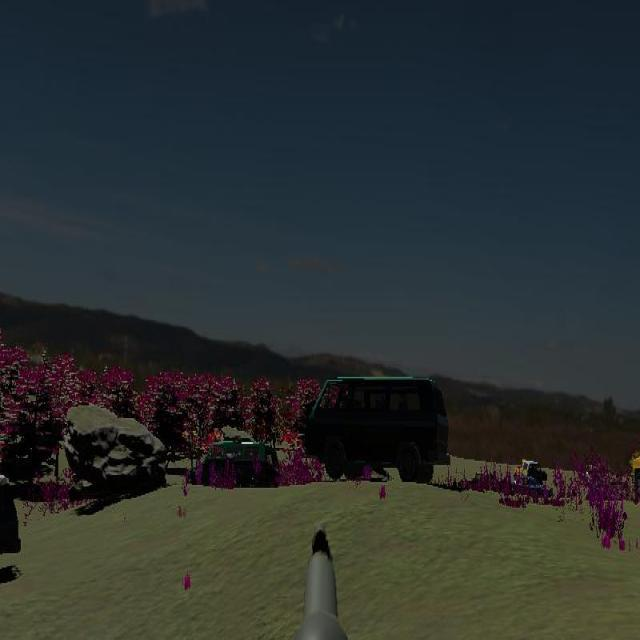car: (305, 374, 449, 483), (630, 433, 640, 501)
